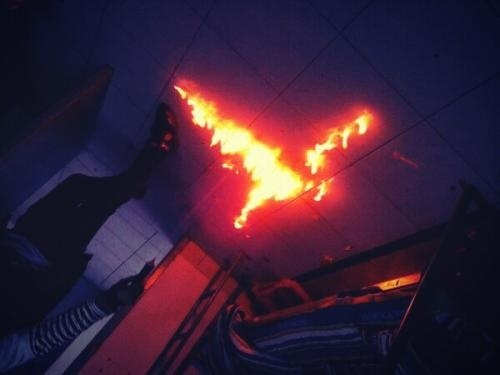fire: (175, 81, 310, 230), (304, 111, 370, 176)
